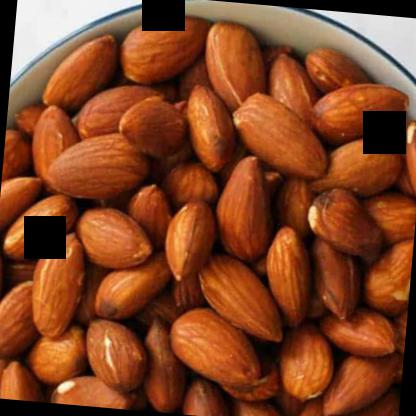almond: (226, 90, 330, 182), (190, 251, 292, 341), (164, 305, 270, 389), (212, 150, 283, 261), (46, 128, 152, 201), (305, 76, 406, 144), (121, 10, 209, 88), (43, 26, 118, 113), (30, 232, 88, 338), (200, 22, 271, 108), (310, 135, 400, 202), (3, 190, 80, 264), (73, 204, 158, 269), (261, 226, 314, 326), (81, 320, 151, 393), (162, 197, 221, 283), (324, 346, 397, 415), (98, 256, 171, 324), (183, 86, 240, 172), (119, 94, 194, 158), (276, 324, 336, 400), (320, 308, 400, 360), (361, 235, 413, 314), (0, 278, 44, 364)
